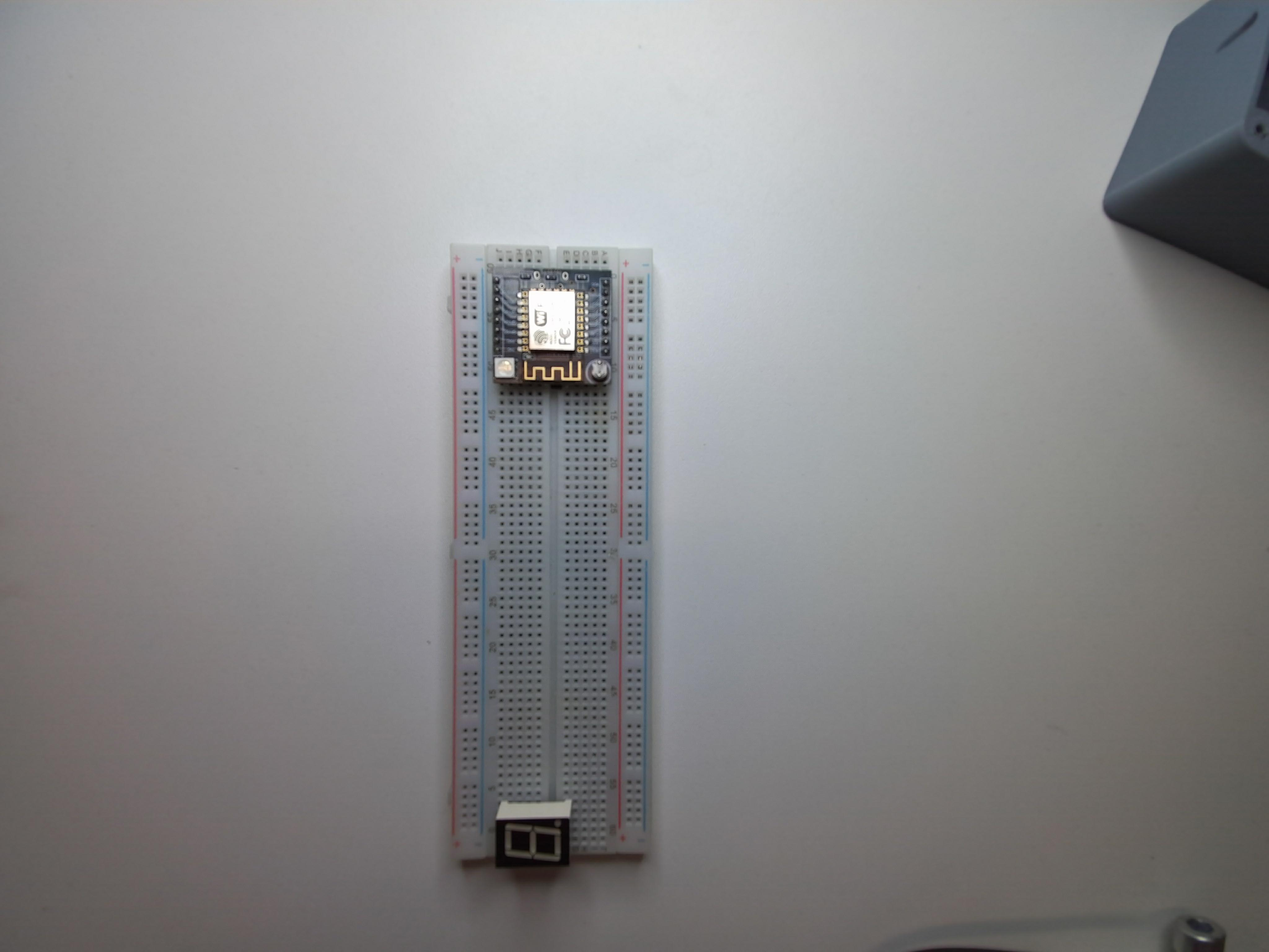base: (446, 241, 661, 868)
digit-board: (491, 797, 574, 871)
esp: (486, 262, 613, 395)
